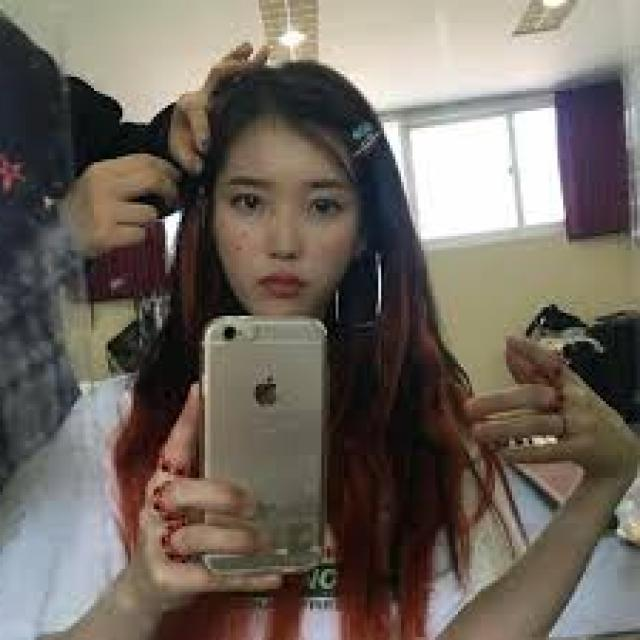mobile: (180, 316, 330, 593)
